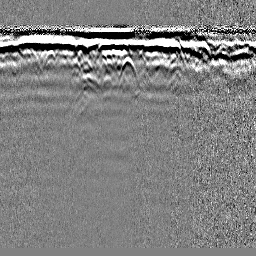cavity: (118, 54, 138, 83)
